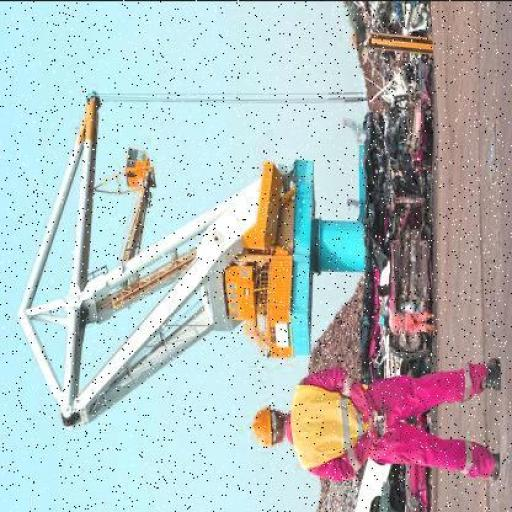person: (254, 350, 508, 488), (378, 305, 442, 337)
safety_shoe: (476, 350, 505, 403), (487, 444, 505, 480)
